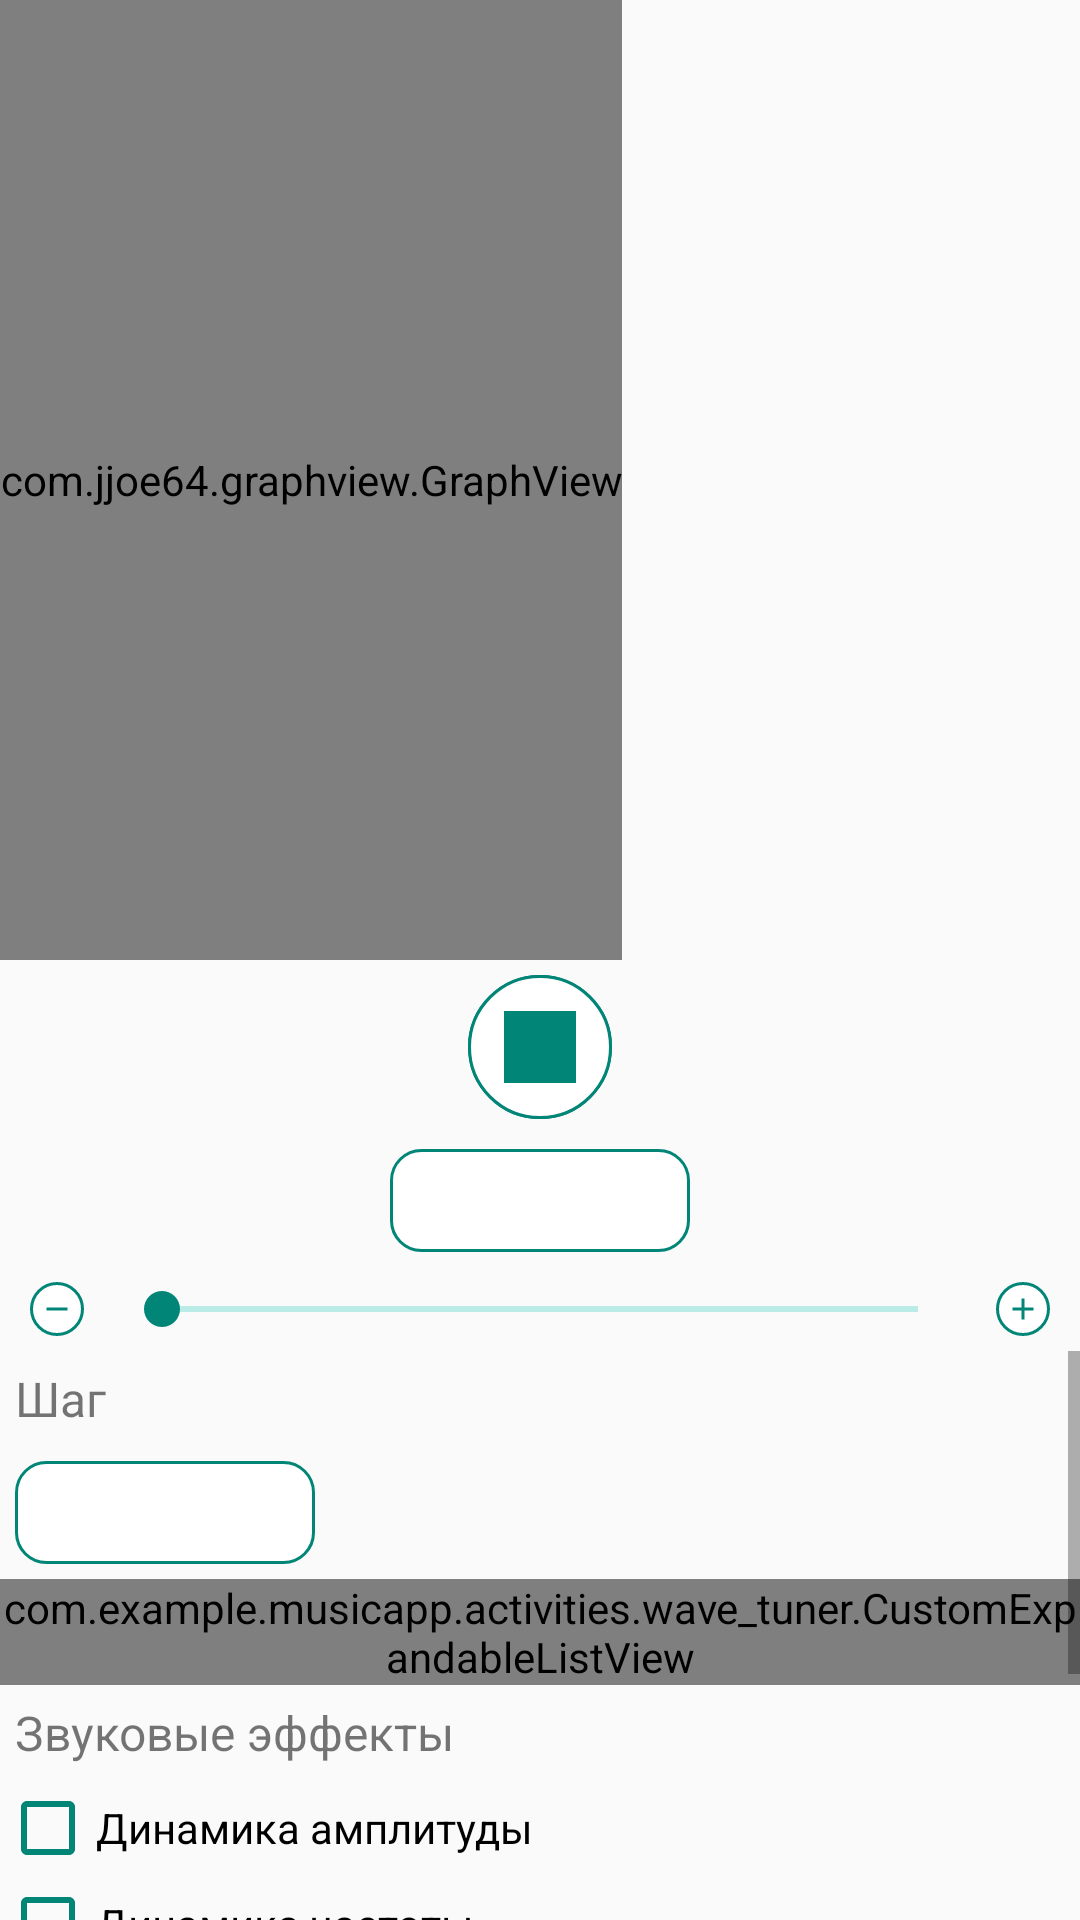

Locate icon controls on the screen. Image size 1080px×1920px, boxes as (x1,y1,x2,y2).
add: (996,1282,1050,1336)
remove: (30,1282,84,1336)
